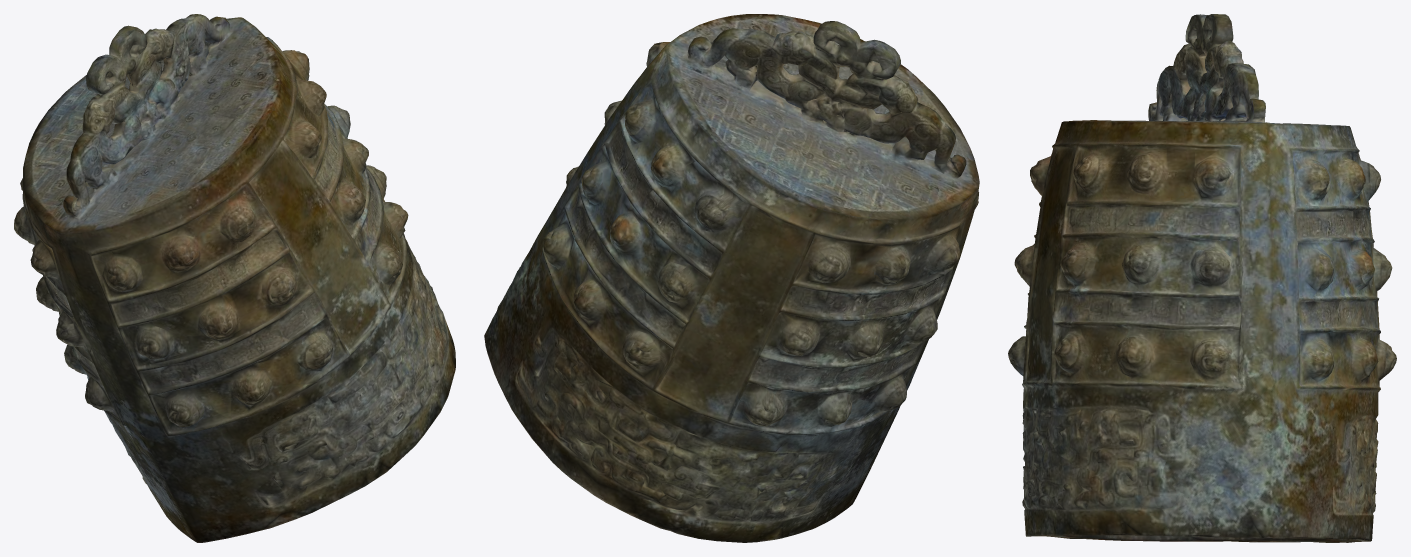
Rendered from user-original-chime-low-room.glb.
The picture shows the model from 3 angles, left to right: view 1: azimuth 30°, elevation 25°; view 2: azimuth 150°, elevation 25°; view 3: azimuth 270°, elevation 25°; orthographic projection. The views are drawn at different scales.
Visible parts, largest first — view 1: Original bronze bell; view 2: Original bronze bell; view 3: Original bronze bell.
Part boxes in pixels (<box>): Original bronze bell: <box>14,14,455,542</box>; Original bronze bell: <box>484,14,979,542</box>; Original bronze bell: <box>1008,14,1396,542</box>.
Size of the model in its own units: 6.07 by 6.91 by 4.75.
Materials: 1 (1 with a texture image).
